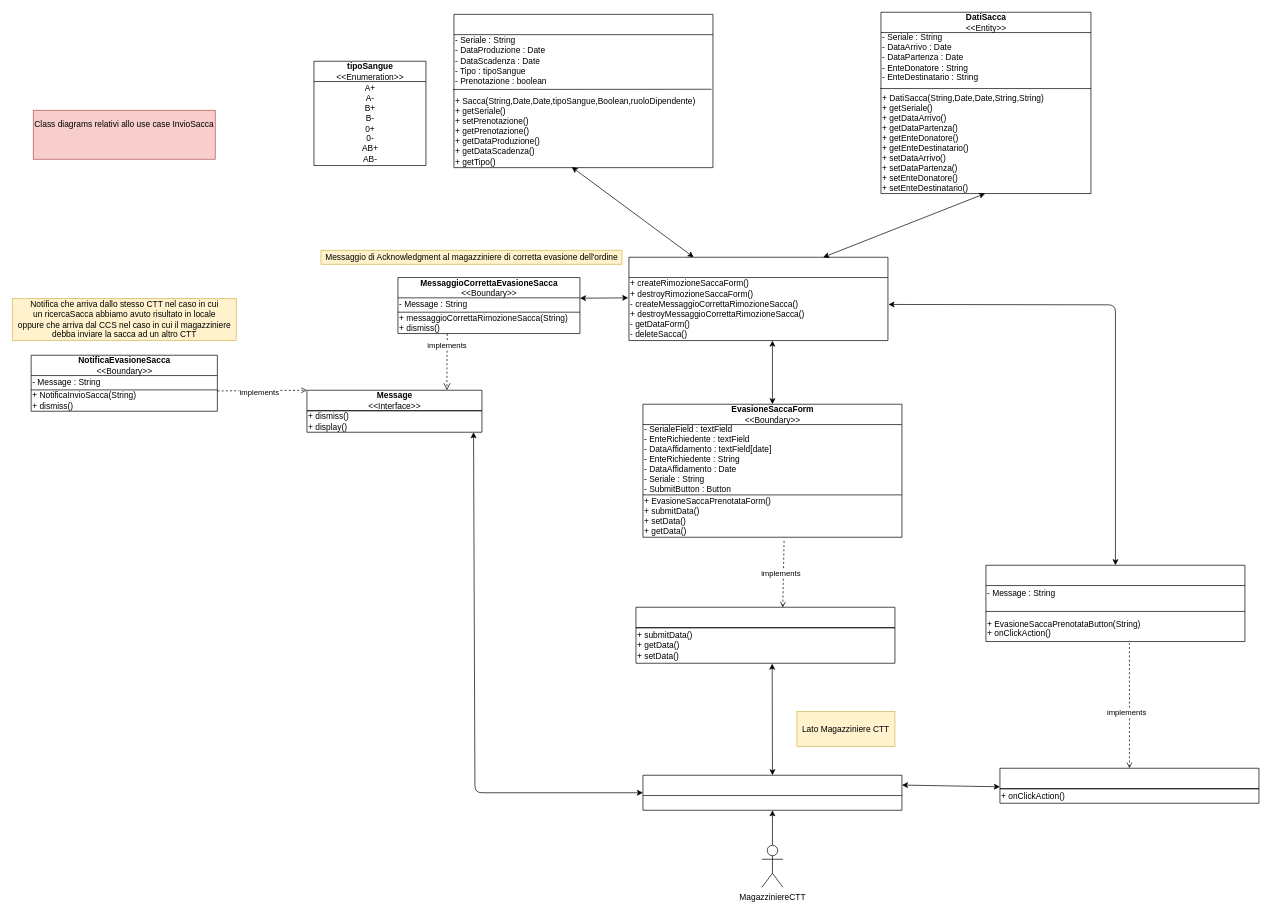
Some shapes in this 1271 by 914 pixel diagram are drawn without their labels. Here are the shapes that lost their labels. From the top down, the box of each, then its label:
(453, 14, 713, 168): Sacca <<Entity>>
(628, 257, 888, 341): EvasioneSaccaControl <<Control>>
(985, 565, 1245, 642): EvasioneSaccaButton <<Boundary>>
(635, 607, 895, 663): Form <<Interface>>
(642, 775, 902, 810): TerminaleMagazziniereCTT <<Boundary>>
(999, 768, 1259, 803): Button <<Interface>>
